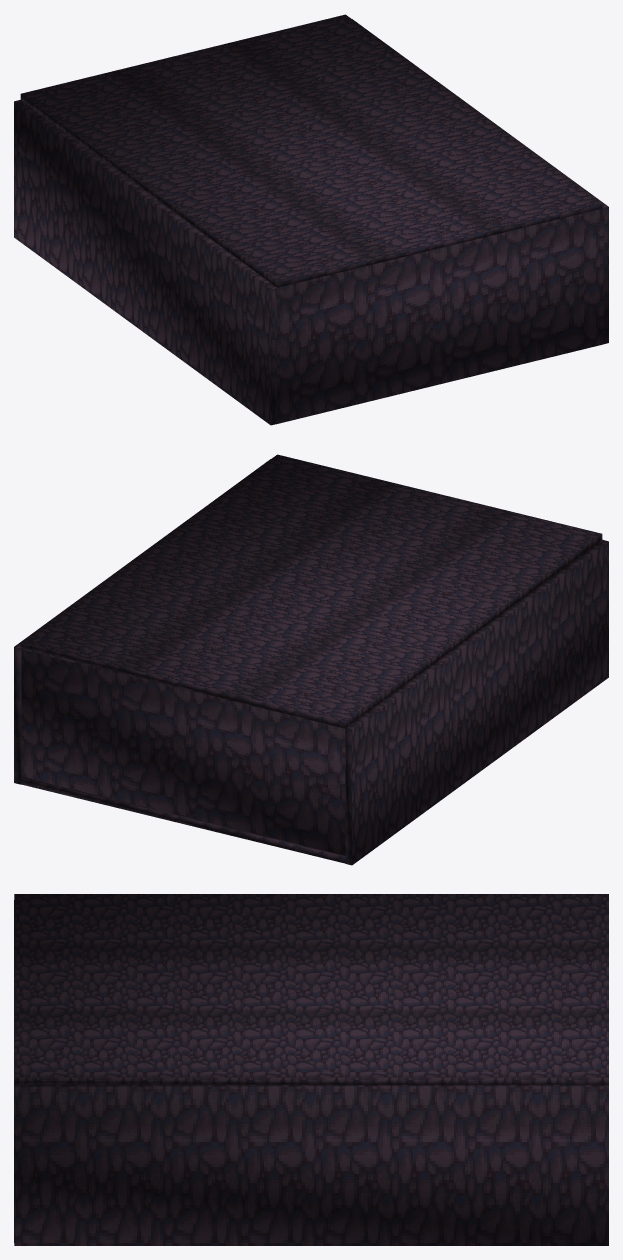
The model's file is InteriorCueva.fbx.
3 renders of one model, top to bottom at view 1: azimuth 30°, elevation 25°; view 2: azimuth 150°, elevation 25°; view 3: azimuth 270°, elevation 25°, orthographic. The views are drawn at different scales.
Parts seen in each view (by area): view 1: Cube.003; view 2: Cube.003; view 3: Cube.003.
Boxes of the visible parts, bbox=[...] form: Cube.003: bbox=[14, 14, 608, 425]; Cube.003: bbox=[14, 454, 608, 865]; Cube.003: bbox=[14, 894, 608, 1245].
Size of the model in its own units: 5200 by 2088 by 6846.
